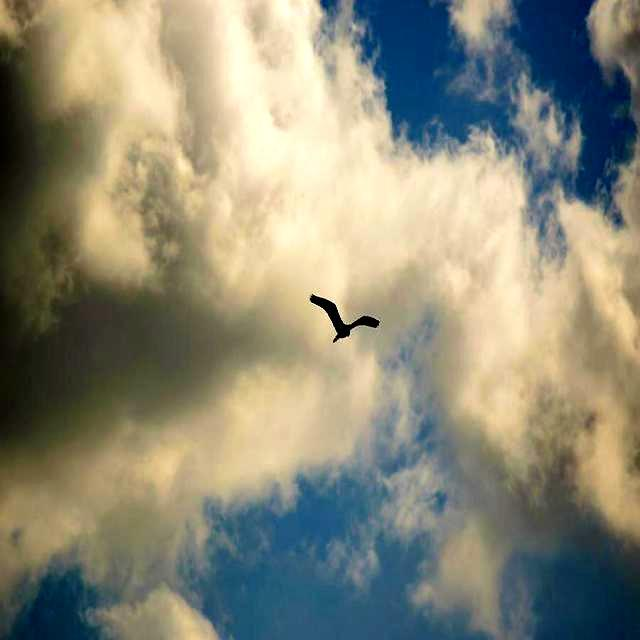bird: (308, 285, 381, 353)
